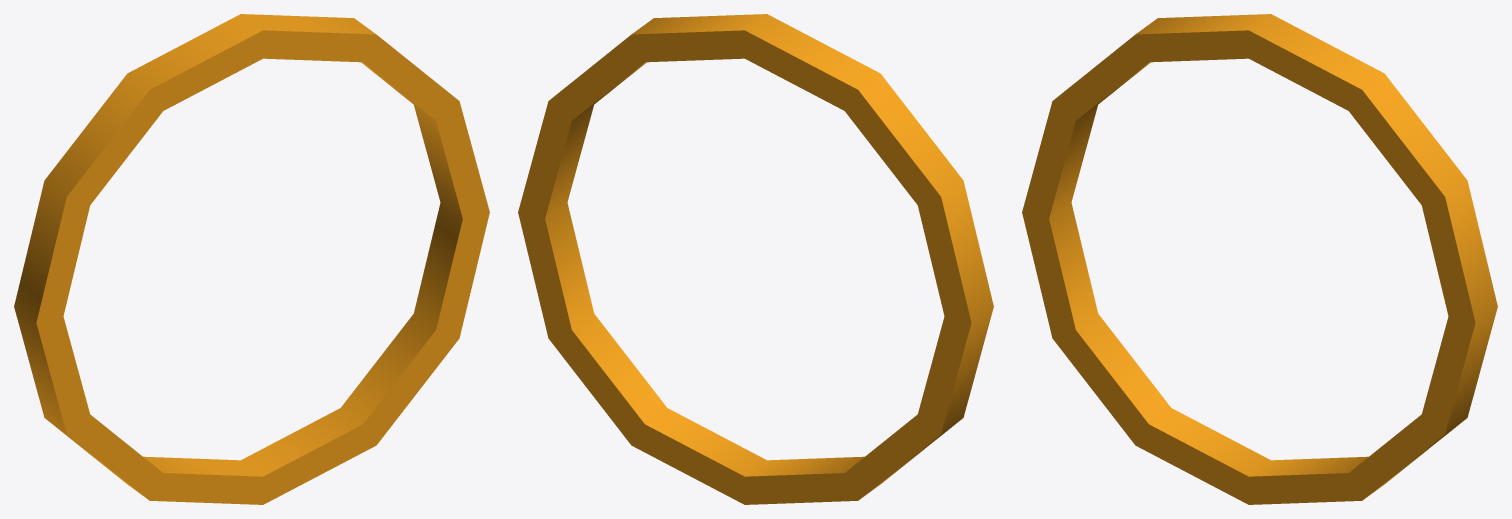
Rendered from Fire ring.fbx.
The picture shows the model from 3 angles, left to right: view 1: azimuth 30°, elevation 25°; view 2: azimuth 150°, elevation 25°; view 3: azimuth 330°, elevation 25°; orthographic projection.
Visible parts, largest first — view 1: Fire ring; view 2: Fire ring; view 3: Fire ring.
Boxes of the visible parts, box(x1,y1,x2,y2) form: Fire ring: box(14, 14, 489, 504); Fire ring: box(518, 14, 993, 504); Fire ring: box(1022, 14, 1497, 504).
Bounding box in the file's own units: 6.48 × 6.48 × 0.5535.
